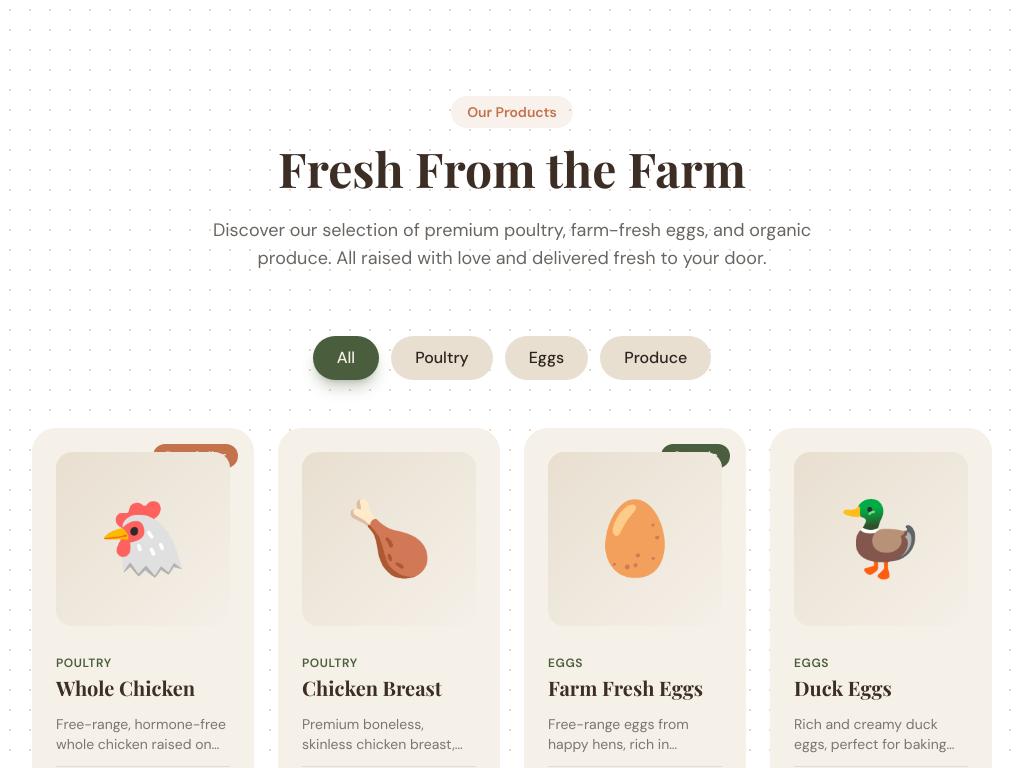
Products › filters to eggs only when Eggs is clicked
Expected: the heading "Farm Fresh Eggs" is shown, [548,674,722,702]
Step 1. Click the button "Eggs" → (546, 358), box [505,336,588,380]
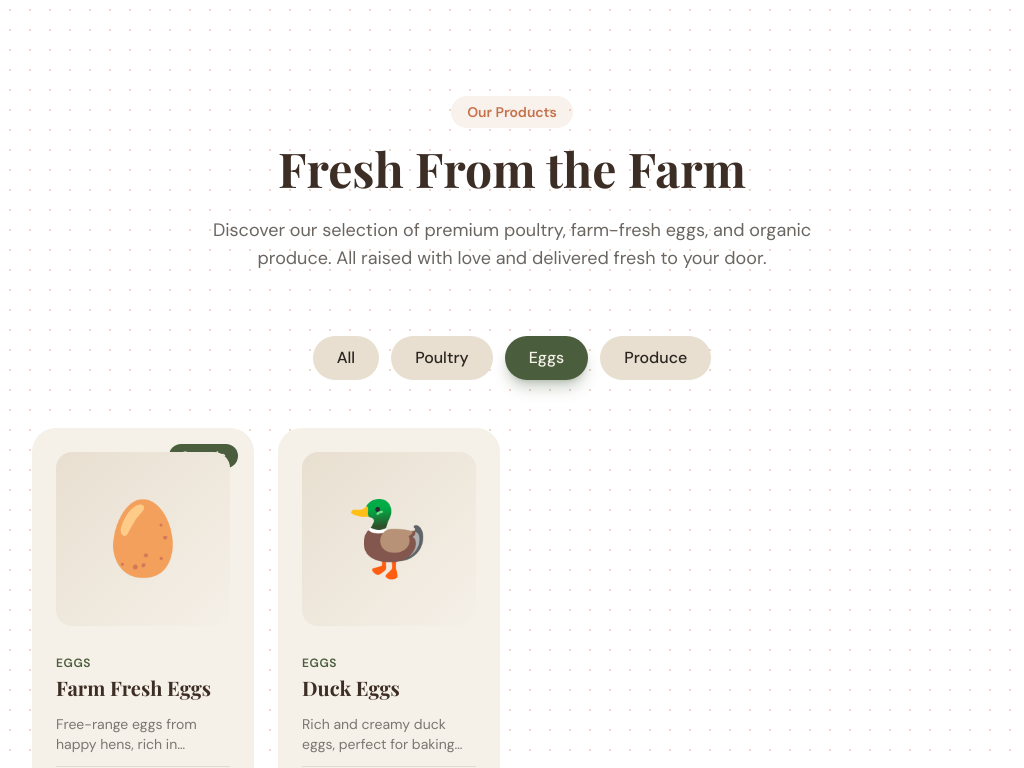
Expected: the heading "Farm Fresh Eggs" is shown, [56,674,230,702]
Now the heading "Whole Chicken" is gone
